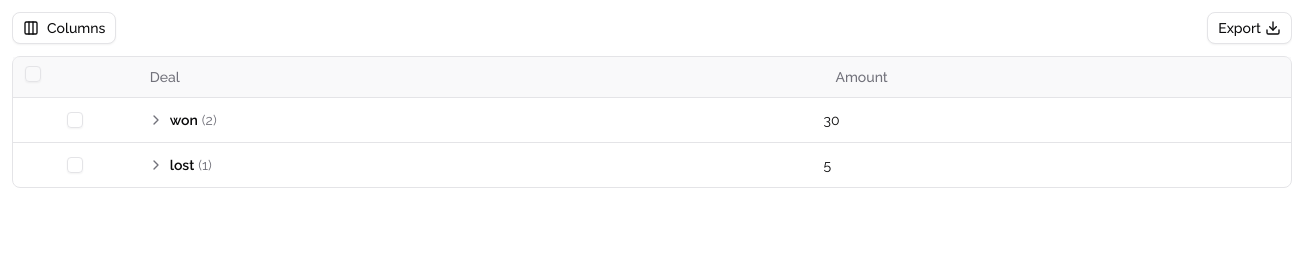
Scenario: grouping — row selection › selecting a group row's checkbox cascades selection to its leaf descendants
Click the checkbox named "Select group" next to "won".
click(75, 120)  # box [67,112,83,128]
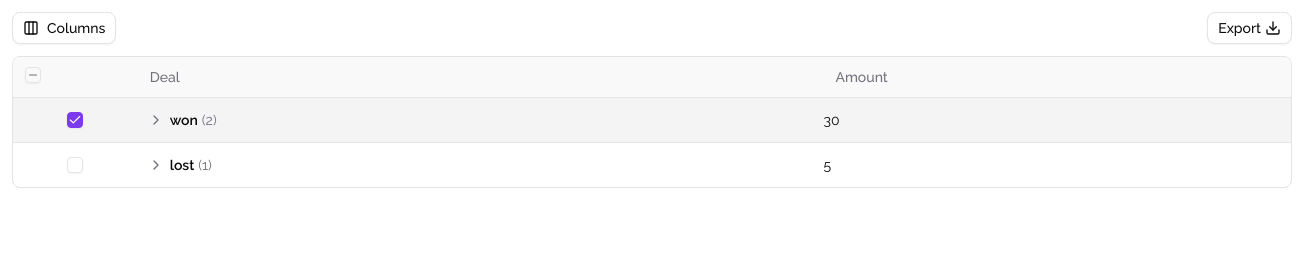
Click the button named "Expand group" next to "won".
click(156, 120)  # box [146,110,166,130]
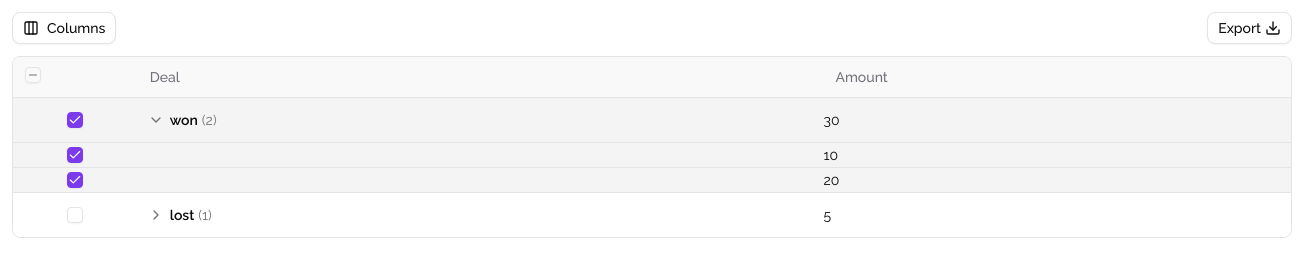
Check: the checkbox named "Deselect row 1" is checked, box [67,146,83,162]
Check: the checkbox named "Deselect row 2" is checked, box [67,172,83,188]
